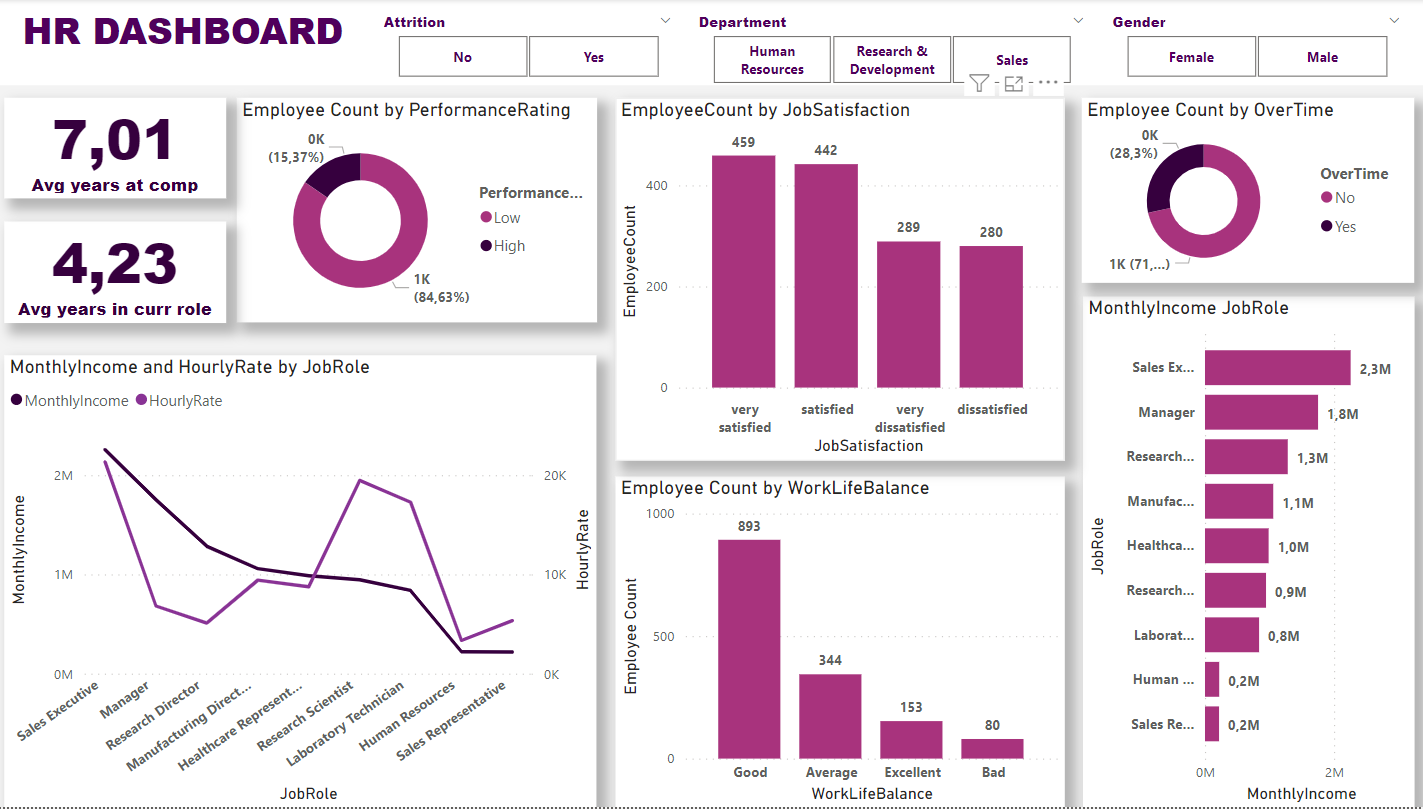

Layout of this report page (visuals, bound fields, positions):
{"tool":"powerbi","page":{"name":"Doublon de Page 1","canvas":[1280,720],"ordinal":1},"visuals":[{"type":"textbox","box":[0,0,1279.3,76.7],"z":0},{"type":"slicer","fields":{"Values":["HR-Employee-Attrition.Department"]},"box":[615.8,7,368.3,69.7],"z":1000},{"type":"slicer","fields":{"Values":["HR-Employee-Attrition.Attrition"]},"box":[334.6,7,281.2,69.7],"z":2000},{"type":"slicer","fields":{"Values":["HR-Employee-Attrition.Gender"]},"box":[984.2,7,281.2,69.7],"z":3000},{"type":"lineChart","title":"MonthlyIncome and HourlyRate by JobRole","fields":{"Y":["Sum(HR-Employee-Attrition.MonthlyIncome)"],"Category":["HR-Employee-Attrition.JobRole"],"Y2":["Sum(HR-Employee-Attrition.HourlyRate)"]},"box":[10.5,317.2,527.5,403.2],"z":4000},{"type":"donutChart","title":"Employee Count by PerformanceRating","fields":{"Y":["Sum(HR-Employee-Attrition.EmployeeCount)"],"Category":["HR-Employee-Attrition.PerformanceRating (groupes)"]},"box":[217.3,88.3,320.7,199.9],"z":5000},{"type":"columnChart","title":" Employee Count by  WorkLifeBalance","fields":{"Y":["Sum(HR-Employee-Attrition.EmployeeCount)"],"Category":["HR-Employee-Attrition.WorkLifeBalance (groupes)"]},"box":[554.3,425.3,399.7,295.1],"z":6000},{"type":"card","fields":{"Values":["HR-Employee-Attrition.average yearsin current"]},"box":[10.5,197.5,197.5,90.6],"z":7000},{"type":"barChart","title":"MonthlyIncome JobRole","fields":{"Category":["HR-Employee-Attrition.JobRole"],"Y":["Sum(HR-Employee-Attrition.MonthlyIncome)"]},"box":[970.2,264.9,295.1,455.5],"z":8000},{"type":"card","fields":{"Values":["HR-Employee-Attrition.Average yearsatcompany"]},"box":[10.5,88.3,197.5,89.5],"z":9000},{"type":"columnChart","title":"EmployeeCount by JobSatisfaction","fields":{"Category":["HR-Employee-Attrition.JobSatisfaction (groupes)"],"Y":["Sum(HR-Employee-Attrition.EmployeeCount)"]},"box":[554.3,88.3,399.7,323],"z":11000},{"type":"donutChart","title":"Employee Count by OverTime","fields":{"Y":["Sum(HR-Employee-Attrition.EmployeeCount)"],"Category":["HR-Employee-Attrition.OverTime"]},"box":[969.1,88.3,296.3,165],"z":12000}]}

Visuals, with their boxes in screenshot pixels (x1, y1, x2, y2), scaled from the page's 1280x720 canvas onto the 1423x809 screenshot:
textbox: (0, 0, 1422, 86)
slicer - HR-Employee-Attrition.Department: (685, 8, 1094, 86)
slicer - HR-Employee-Attrition.Attrition: (372, 8, 685, 86)
slicer - HR-Employee-Attrition.Gender: (1094, 8, 1407, 86)
"MonthlyIncome and HourlyRate by JobRole" lineChart: (12, 356, 598, 808)
"Employee Count by PerformanceRating" donutChart: (242, 99, 598, 324)
" Employee Count by  WorkLifeBalance" columnChart: (616, 478, 1061, 808)
card - HR-Employee-Attrition.average yearsin current: (12, 222, 231, 324)
"MonthlyIncome JobRole" barChart: (1079, 298, 1407, 808)
card - HR-Employee-Attrition.Average yearsatcompany: (12, 99, 231, 200)
"EmployeeCount by JobSatisfaction" columnChart: (616, 99, 1061, 462)
"Employee Count by OverTime" donutChart: (1077, 99, 1407, 285)
